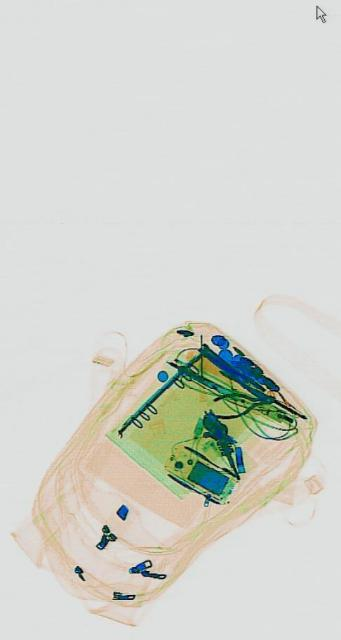Pliers: (211, 383, 273, 422)
